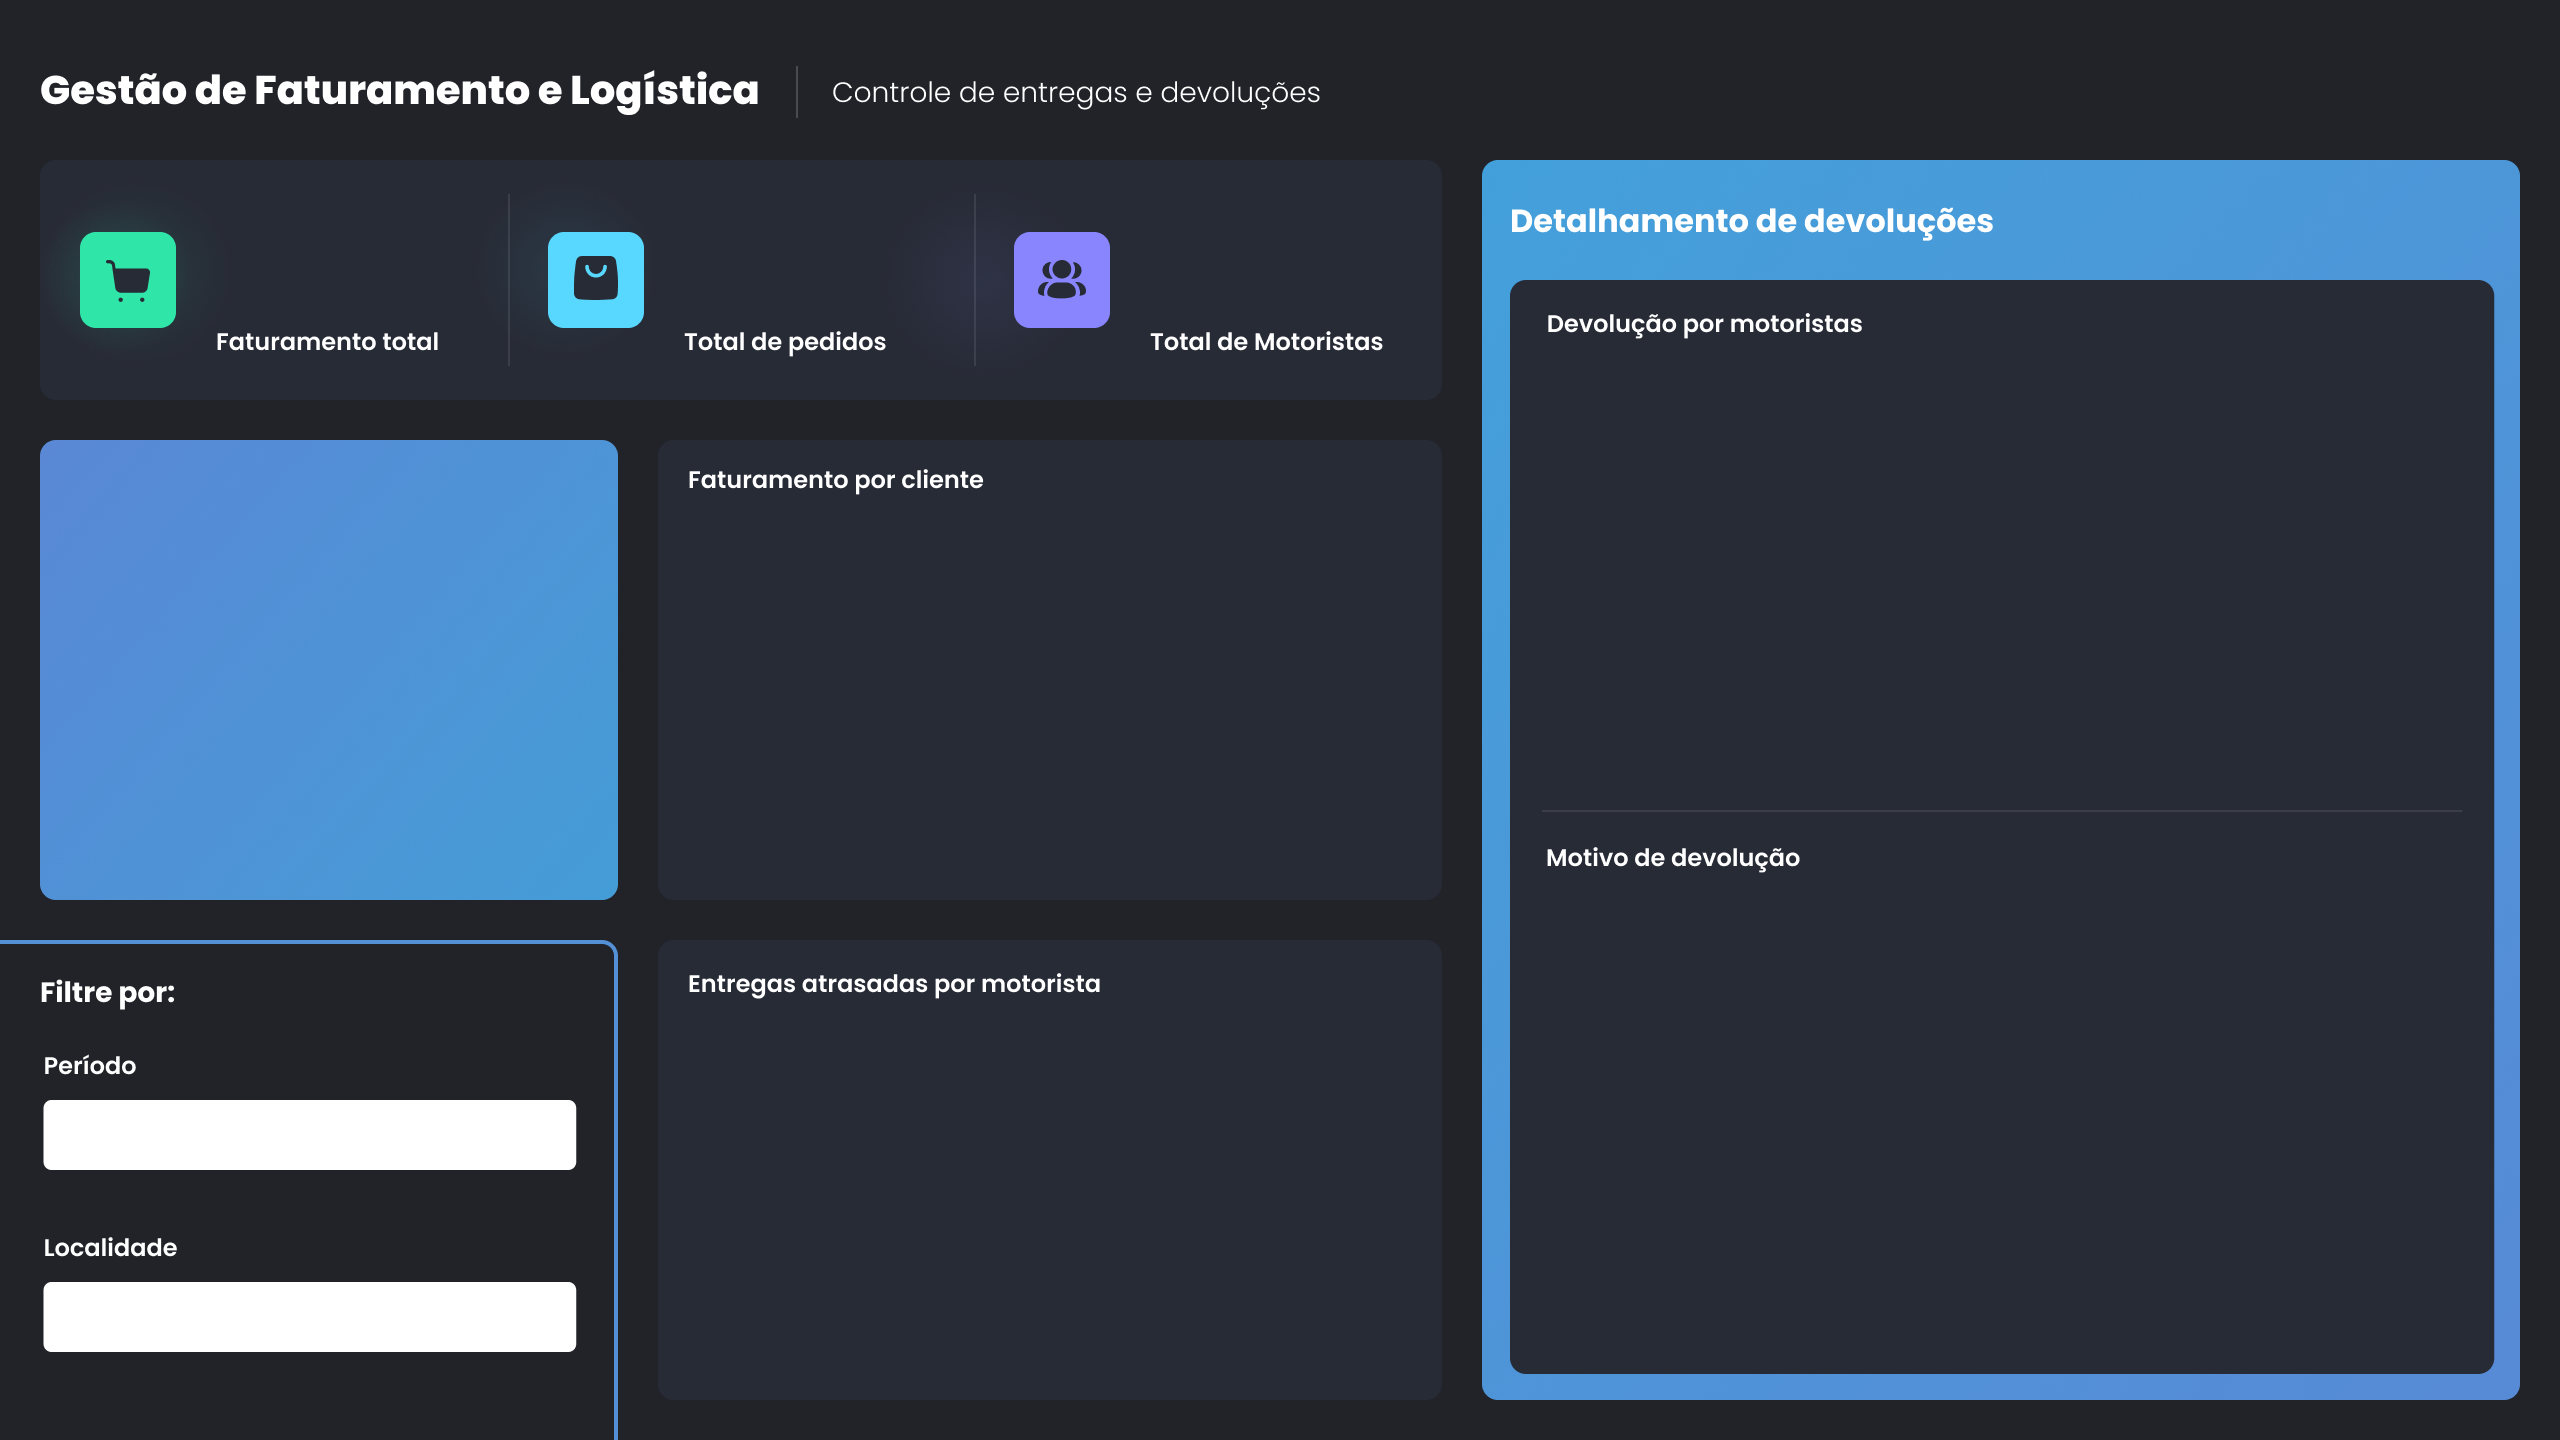

What the dashboard file says about the page in this screenshot:
{"tool":"powerbi","page":{"name":"Logistica","canvas":[1280,720],"ordinal":0},"visuals":[{"type":"clusteredBarChart","fields":{"Y":["Sum(tbFaturamento.R$ Faturados)"],"Category":["tbFaturamento.Cliente"]},"box":[334.3,238.5,376,198.6],"z":0},{"type":"slicer","fields":{"Values":["tbFaturamento.Data Emissão Pedido.Variation.Hierarquia de datas.Ano"]},"box":[22.2,548,271.3,35.5],"z":1000},{"type":"slicer","fields":{"Values":["tbFaturamento.Destino"]},"box":[22.2,639.3,271.3,39.9],"z":2000},{"type":"donutChart","title":"Status da Entrega","fields":{"Category":["tbFaturamento.Status"],"Y":["CountNonNull(tbFaturamento.Nº Pedido)"]},"box":[22.2,223.4,312.1,220.8],"z":3000},{"type":"treemap","title":"Motivo de devolucao","fields":{"Group":["tbFaturamento.Mot. Devolução"],"Values":["CountNonNull(tbFaturamento.Nº Pedido)"]},"box":[769.7,444.2,460.2,227.9],"z":4000},{"type":"clusteredBarChart","title":"Entregas Atrasadas por Motorista","fields":{"Category":["tbFaturamento.Motorista"],"Y":["CountNonNull(tbFaturamento.Nº Pedido)"]},"box":[334.3,504.5,368.9,191.5],"z":5000},{"type":"hundredPercentStackedColumnChart","title":"Devolucao por Motorias","fields":{"Category":["tbFaturamento.Motorista"],"Y":["CountNonNull(tbFaturamento.Nº Pedido)"],"Series":["tbFaturamento.Mot. Devolução"]},"box":[769.7,176.5,460.2,219],"z":6000},{"type":"card","fields":{"Values":["Sum(tbFaturamento.R$ Faturados)"]},"box":[94.9,99.3,140.1,71.8],"z":7000},{"type":"card","fields":{"Values":["Count(tbFaturamento.Nº Pedido)"]},"box":[334.3,104.6,109.1,61.2],"z":8000},{"type":"card","fields":{"Values":["Count(tbFaturamento.Motorista)"]},"box":[571.9,110,118.8,51.4],"z":9000}]}

Visuals, with their boxes in screenshot pixels (x1, y1, x2, y2), scaled from the page's 1280x720 canvas onto the 2560x1440 screenshot:
clusteredBarChart - Sum(tbFaturamento.R$ Faturados) x tbFaturamento.Cliente: {"x1": 669, "y1": 477, "x2": 1421, "y2": 874}
slicer - tbFaturamento.Data Emissão Pedido.Variation.Hierarquia de datas.Ano: {"x1": 44, "y1": 1096, "x2": 587, "y2": 1167}
slicer - tbFaturamento.Destino: {"x1": 44, "y1": 1279, "x2": 587, "y2": 1358}
"Status da Entrega" donutChart: {"x1": 44, "y1": 447, "x2": 669, "y2": 888}
"Motivo de devolucao" treemap: {"x1": 1539, "y1": 888, "x2": 2460, "y2": 1344}
"Entregas Atrasadas por Motorista" clusteredBarChart: {"x1": 669, "y1": 1009, "x2": 1406, "y2": 1392}
"Devolucao por Motorias" hundredPercentStackedColumnChart: {"x1": 1539, "y1": 353, "x2": 2460, "y2": 791}
card - Sum(tbFaturamento.R$ Faturados): {"x1": 190, "y1": 199, "x2": 470, "y2": 342}
card - Count(tbFaturamento.Nº Pedido): {"x1": 669, "y1": 209, "x2": 887, "y2": 332}
card - Count(tbFaturamento.Motorista): {"x1": 1144, "y1": 220, "x2": 1381, "y2": 323}
